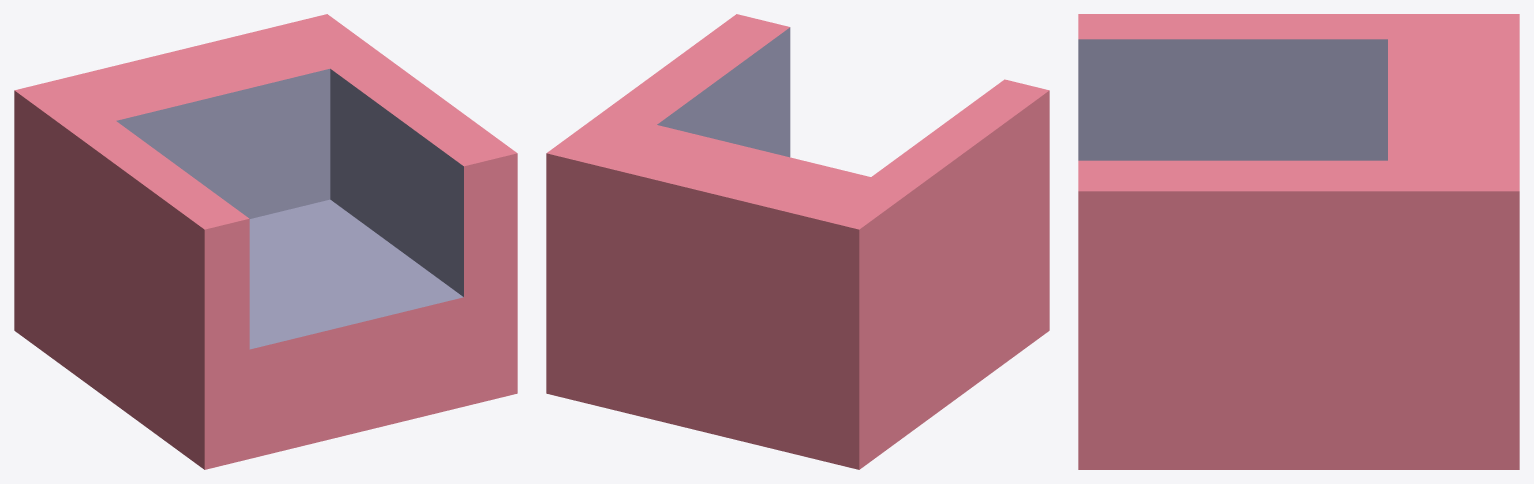
The model's file is chair 1.dae.
3 renders of one model, left to right at view 1: azimuth 30°, elevation 25°; view 2: azimuth 150°, elevation 25°; view 3: azimuth 270°, elevation 25°, orthographic. The views are drawn at different scales.
Parts seen in each view (by area): view 1: SketchUp (×2); view 2: SketchUp (×2); view 3: SketchUp (×2).
Boxes of the visible parts, bbox=[...] form: SketchUp (×2): bbox=[14, 14, 517, 469]; SketchUp (×2): bbox=[546, 14, 1049, 469]; SketchUp (×2): bbox=[1078, 14, 1519, 469].
Bounding box in the file's own units: 76.31 × 80.37 × 56.
